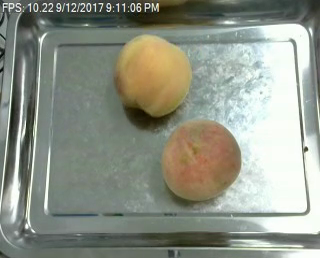Peach: (161, 119, 241, 200), (115, 33, 191, 116)
